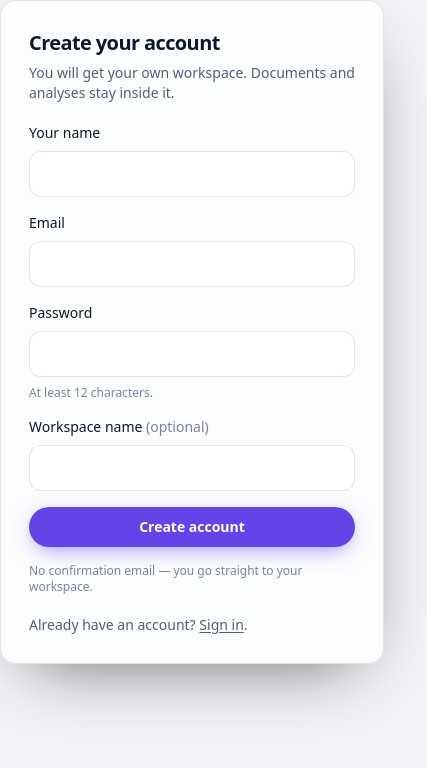
Scenario: registration › rejects a short password without a round trip
This screenshot has width=427, height=768.
Type "New Reader" into the field labelled "Your name". click: (192, 174)
box: [29,151,355,197]
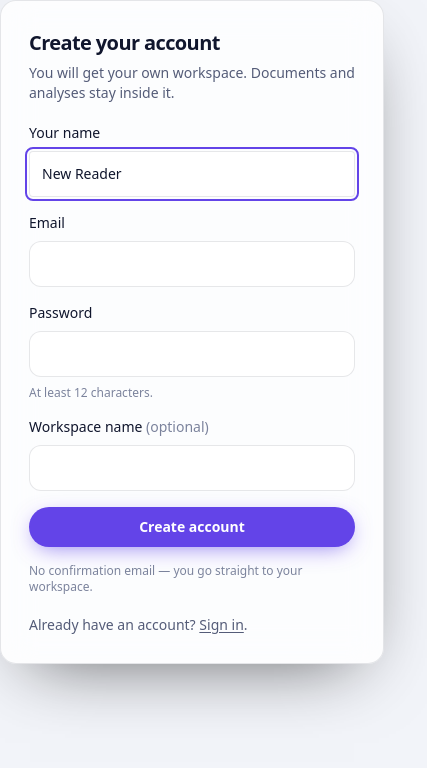
Type "new@example.invalid" into the field labelled "Email". click: (192, 264)
box: [29,241,355,287]
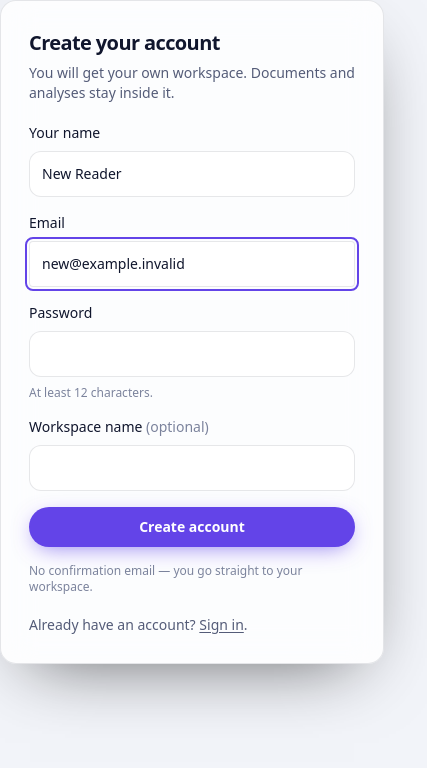
Type "short" into the password field labelled "Password". click: (192, 354)
box: [29,331,355,377]
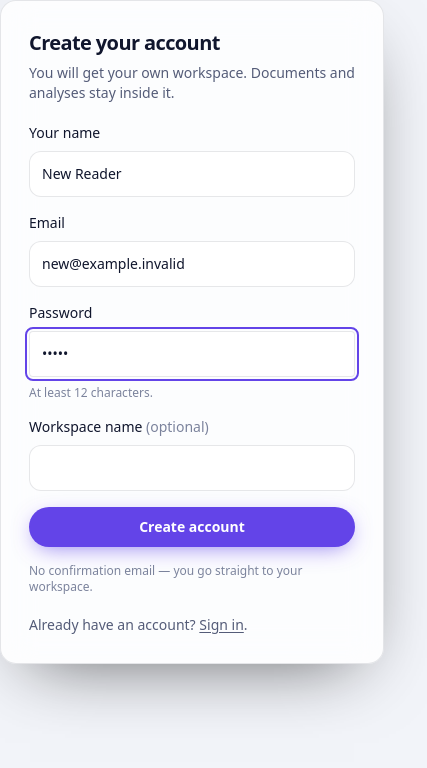
Click the button "Create account". click: click(192, 527)
box: [29,507,355,547]
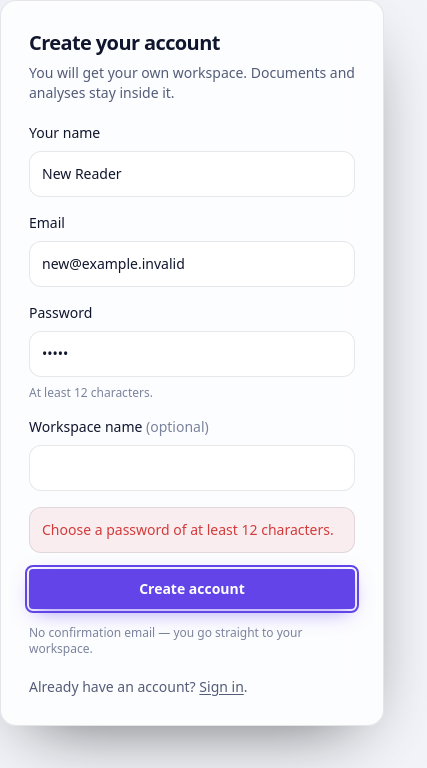
Check: the message shows "at least 12 characters", box [42,520,334,539]
